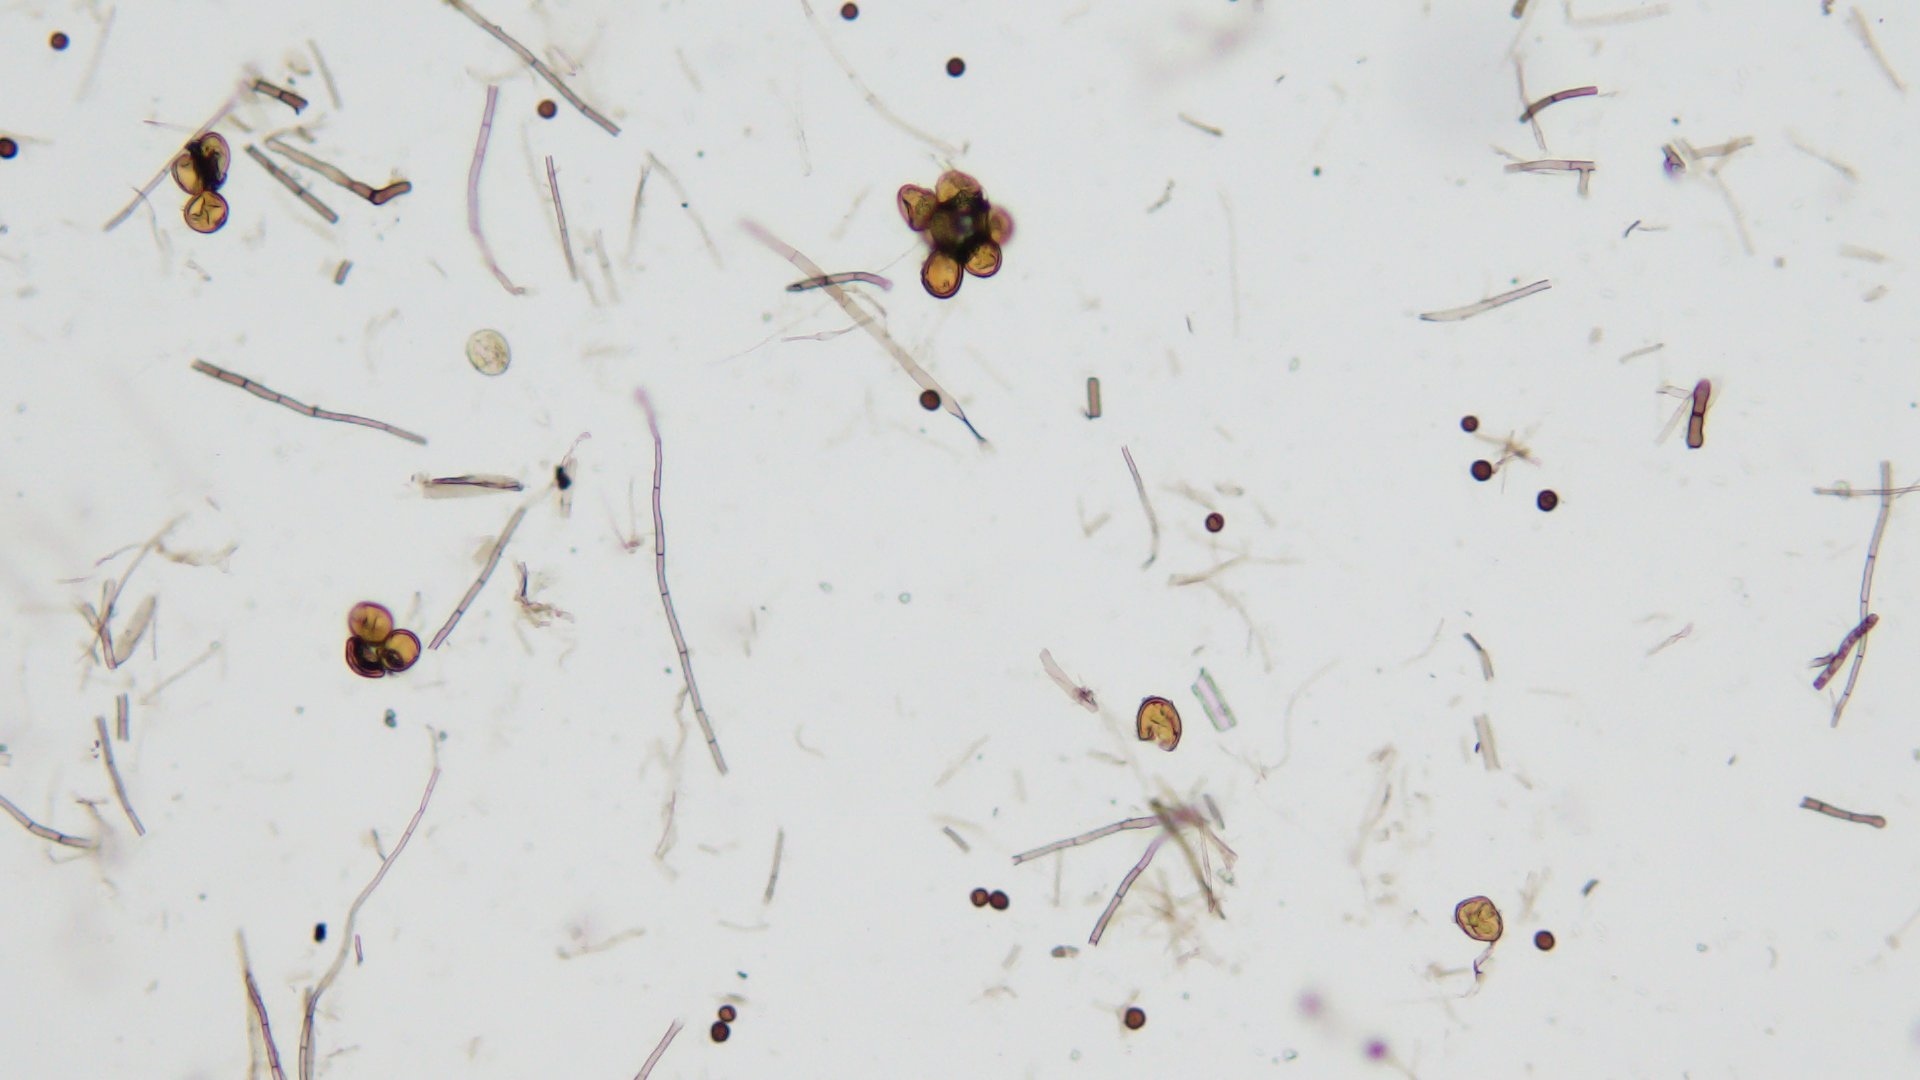shs_spore: (1466, 462, 1494, 483), (919, 389, 943, 411), (1124, 1005, 1145, 1029), (1532, 930, 1557, 949), (537, 99, 558, 121), (1204, 512, 1225, 534), (1536, 489, 1557, 512), (711, 1022, 732, 1042), (49, 32, 71, 50), (839, 3, 858, 22), (990, 890, 1010, 910), (945, 57, 965, 75), (715, 1004, 736, 1019), (969, 887, 988, 905), (1461, 415, 1480, 433)
xb_spore: (170, 135, 231, 190), (935, 170, 986, 223), (1455, 893, 1509, 942), (1137, 698, 1184, 752), (918, 248, 964, 299), (338, 637, 386, 684), (183, 194, 232, 237), (349, 599, 398, 640), (375, 629, 421, 670), (895, 185, 938, 227), (964, 243, 1004, 276)
